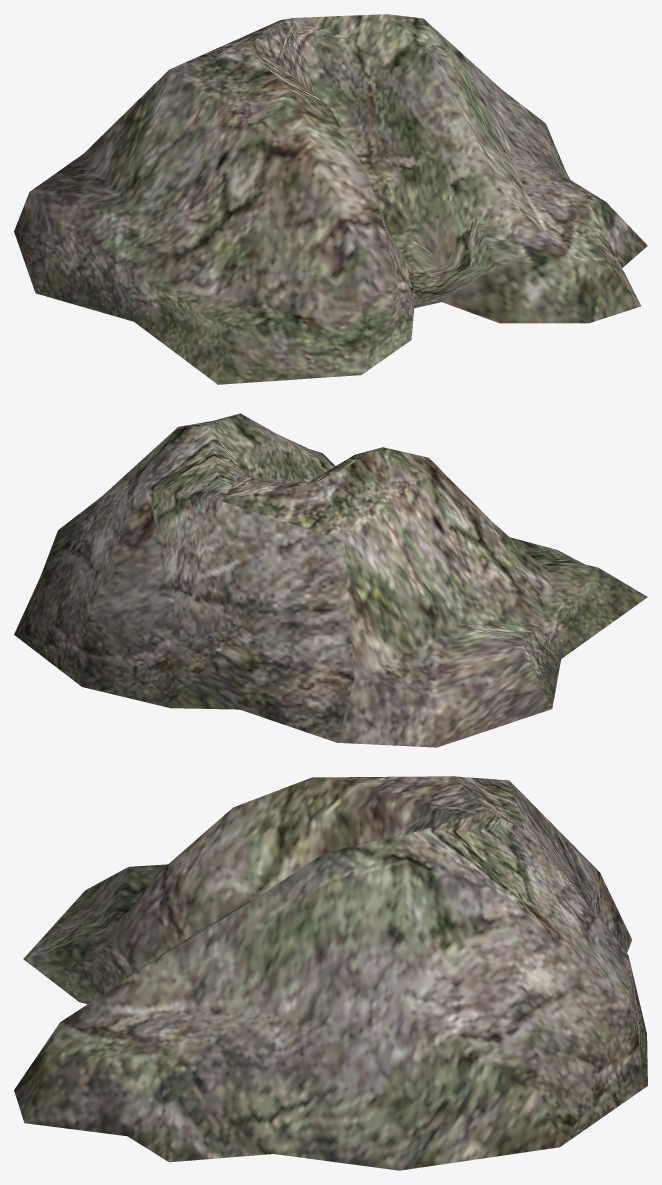
Rendered from general_obj_stone13.glb.
3 views of the same model, one above another, from view 1: azimuth 30°, elevation 25°; view 2: azimuth 150°, elevation 25°; view 3: azimuth 270°, elevation 25° (orthographic). The views are drawn at different scales.
Visible parts, largest first — view 1: Sphere01; view 2: Sphere01; view 3: Sphere01.
Boxes of the visible parts, box(x1,y1,x2,y2) form: Sphere01: box(14, 14, 647, 384); Sphere01: box(14, 413, 647, 747); Sphere01: box(14, 776, 647, 1170).
Bounding box in the file's own units: 7.83 × 2.81 × 6.86.
Materials: 1 (1 with a texture image).
